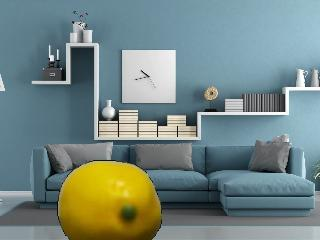lemon: (57, 161, 160, 240)
